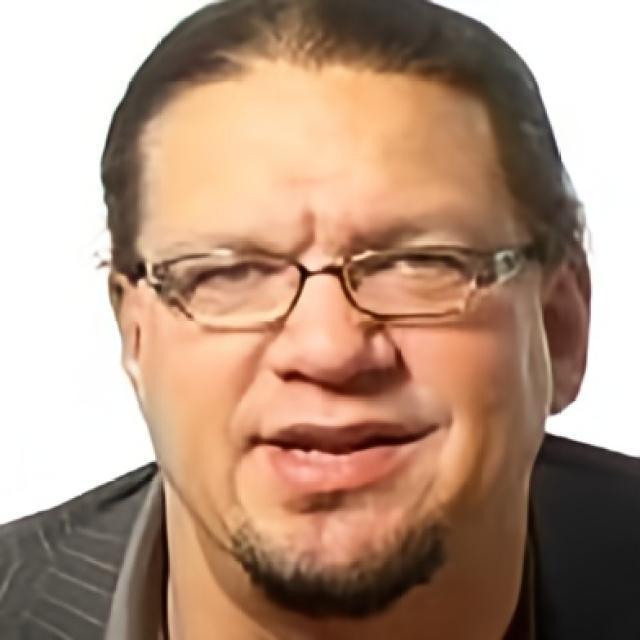disgust: (134, 46, 556, 618)
